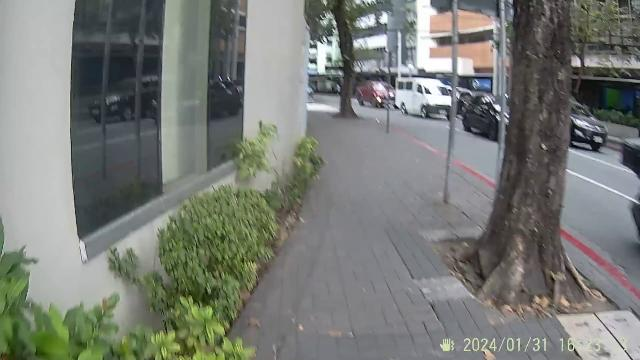tree: (473, 0, 589, 304)
